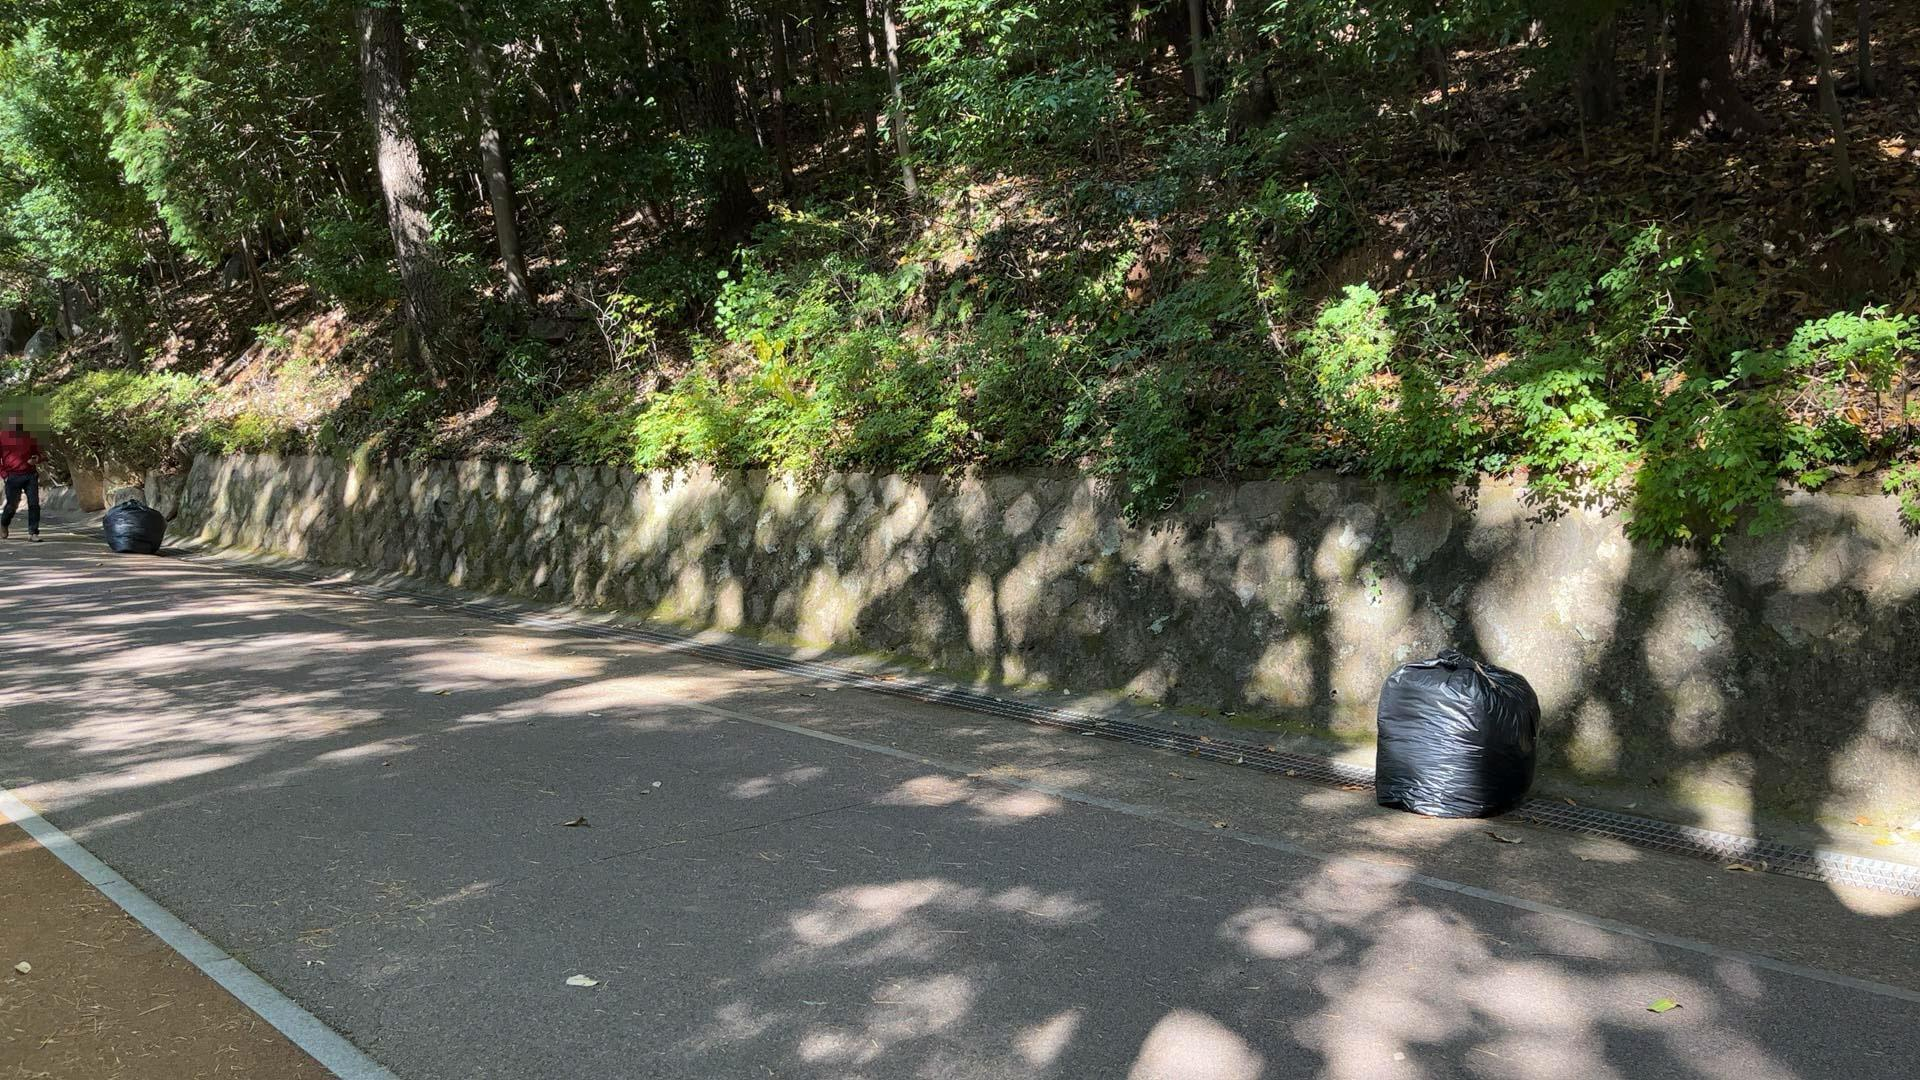black_bag: (1366, 642, 1545, 823), (96, 495, 169, 556)
